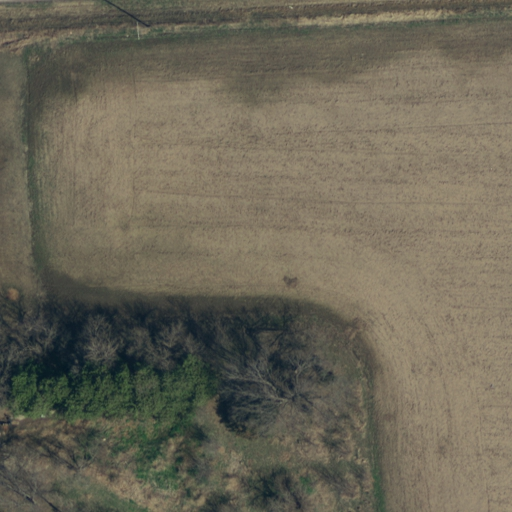DT: (131, 19, 153, 42)
